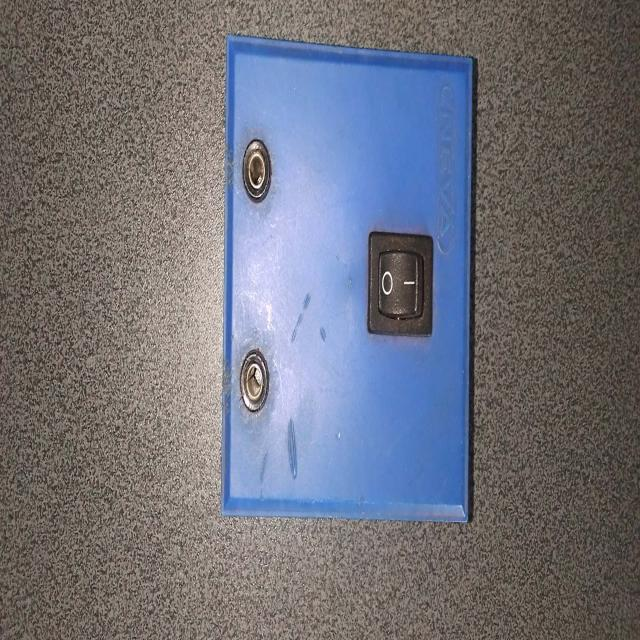ON-OFF Switch: (209, 34, 488, 548)
